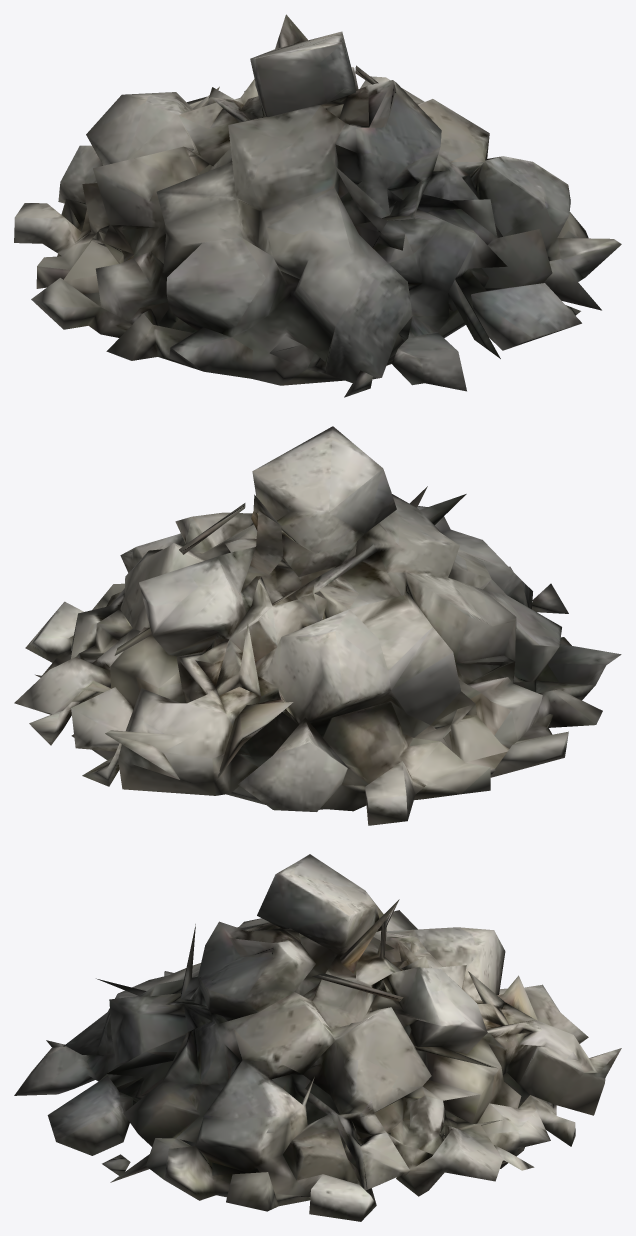
File: e_rubble.glb
The picture shows the model from 3 angles, top to bottom: view 1: azimuth 30°, elevation 25°; view 2: azimuth 150°, elevation 25°; view 3: azimuth 270°, elevation 25°; orthographic projection. The views are drawn at different scales.
Parts seen in each view (by area): view 1: tripo_node_5b6fa1e7-a5ca-4ab6-bdc5-db07acda0543; view 2: tripo_node_5b6fa1e7-a5ca-4ab6-bdc5-db07acda0543; view 3: tripo_node_5b6fa1e7-a5ca-4ab6-bdc5-db07acda0543.
Boxes of the visible parts, x1,y1,x2,y2 form: tripo_node_5b6fa1e7-a5ca-4ab6-bdc5-db07acda0543: (14,14,621,397); tripo_node_5b6fa1e7-a5ca-4ab6-bdc5-db07acda0543: (14,426,621,825); tripo_node_5b6fa1e7-a5ca-4ab6-bdc5-db07acda0543: (14,854,621,1221).
Bounding box in the file's own units: 0.9309 × 0.4291 × 1.
1 material, 1 textured.
